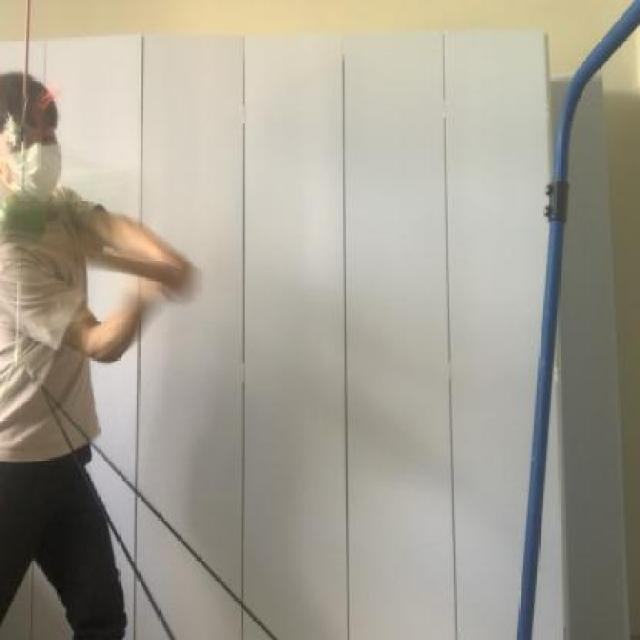baseball: (0, 170, 80, 262)
